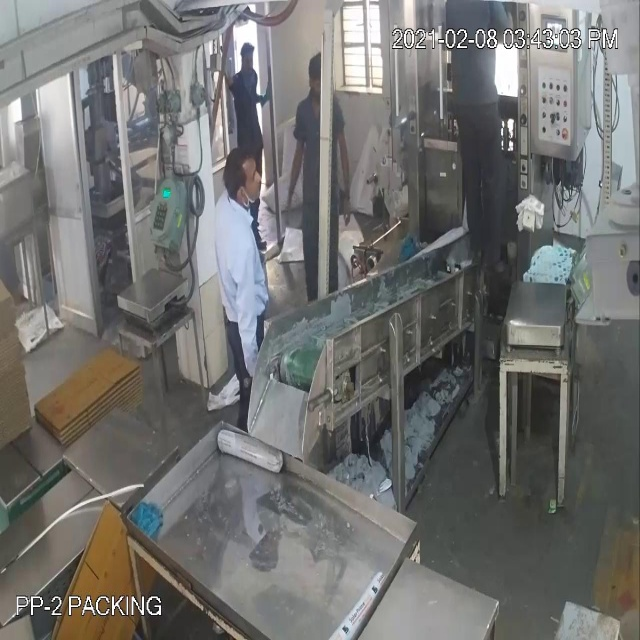Sin_guantes: (231, 241, 262, 381), (333, 112, 358, 236), (282, 123, 311, 229)
